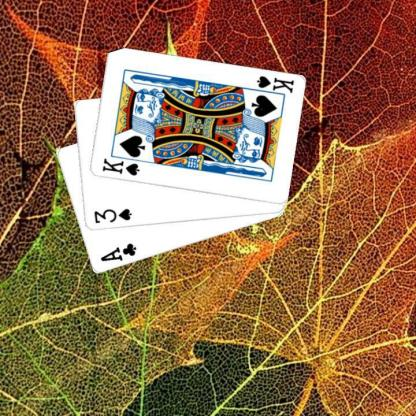3S: (92, 206, 132, 225)
AC: (98, 240, 138, 263)
KS: (249, 73, 295, 98), (100, 156, 140, 177)
